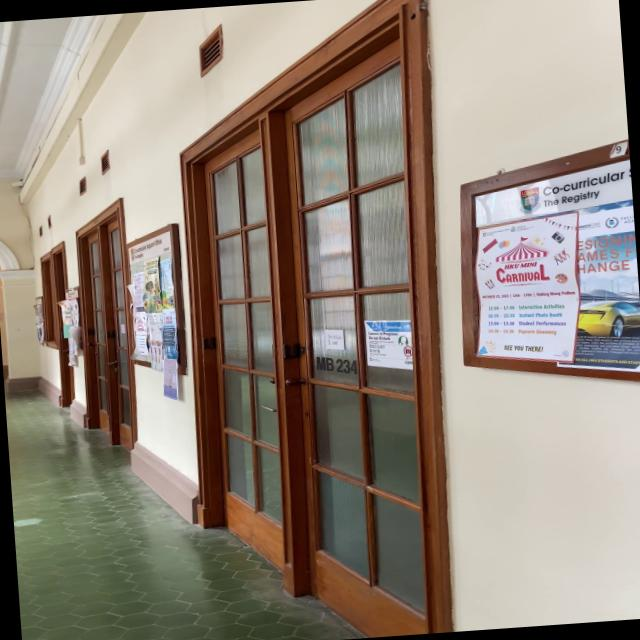room234Window: (312, 350, 361, 379)
